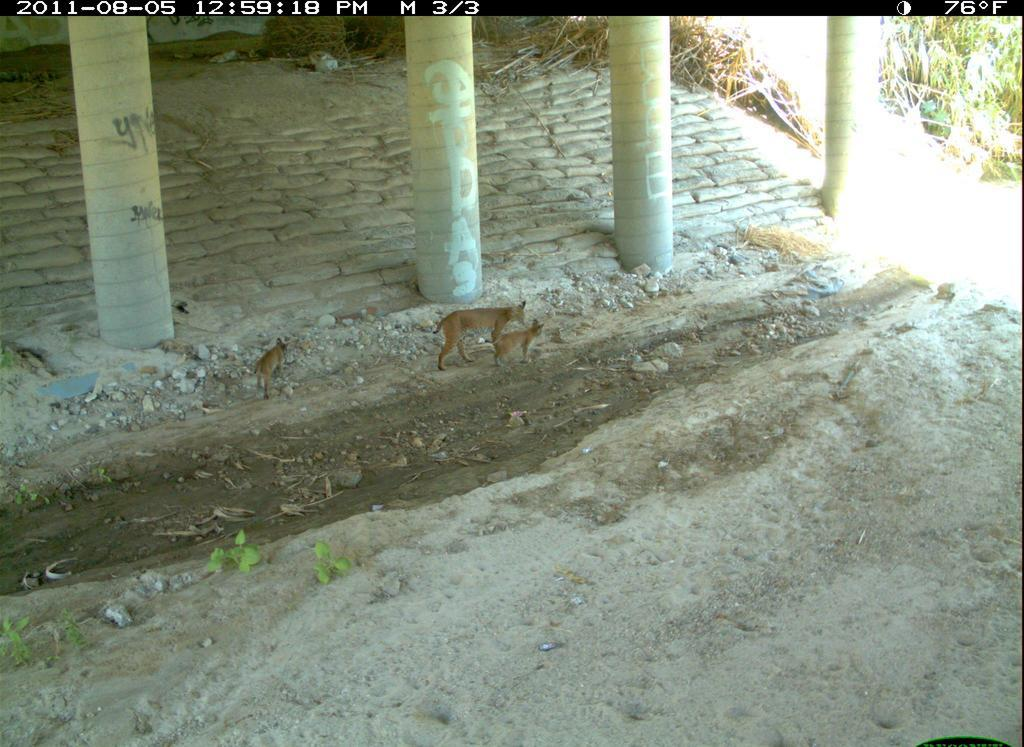bobcat: (853, 587, 1024, 747), (503, 663, 594, 747), (976, 629, 1024, 747)
